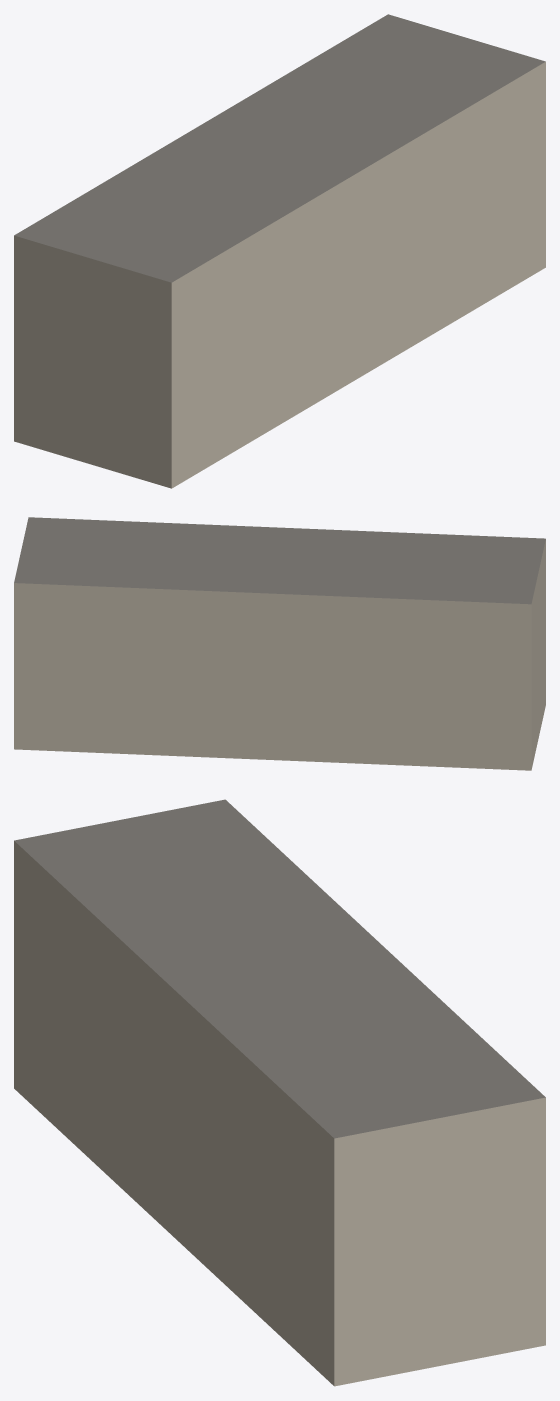
3 views of the same model, one above another, from view 1: azimuth 30°, elevation 25°; view 2: azimuth 150°, elevation 25°; view 3: azimuth 270°, elevation 25° (orthographic). The views are drawn at different scales.
Visible parts, largest first — view 1: HP-w369342520; view 2: HP-w369342520; view 3: HP-w369342520.
Boxes of the visible parts, <box> form: HP-w369342520: <box>14,14,545,488</box>; HP-w369342520: <box>14,517,545,770</box>; HP-w369342520: <box>14,799,545,1386</box>.
Size of the model in its own units: 52.79 by 18 by 35.
